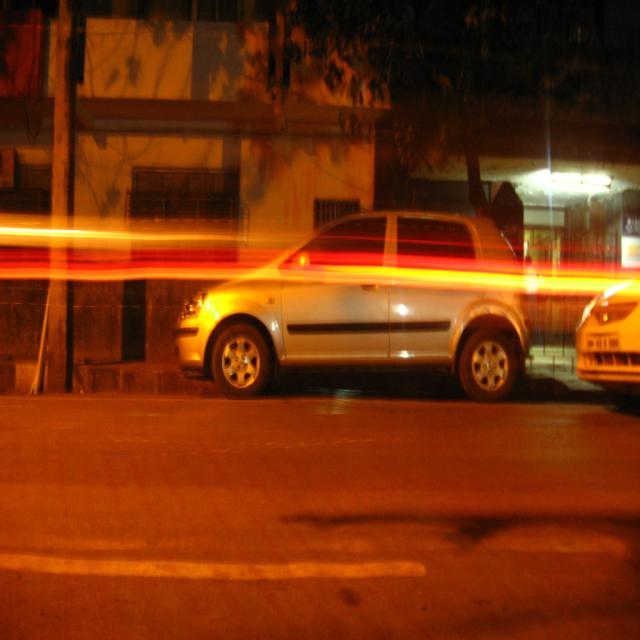car: (171, 203, 535, 400)
